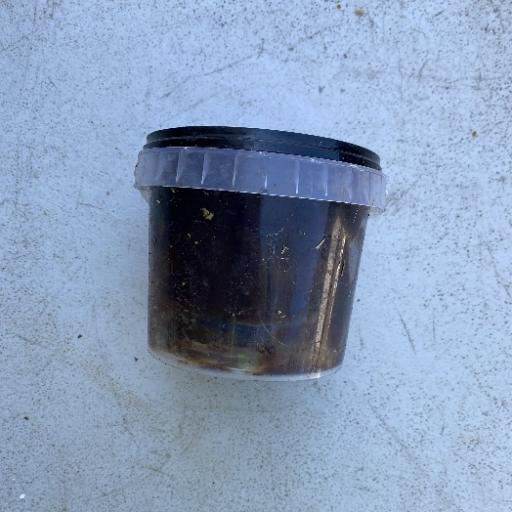Plastic: (131, 121, 390, 384)
